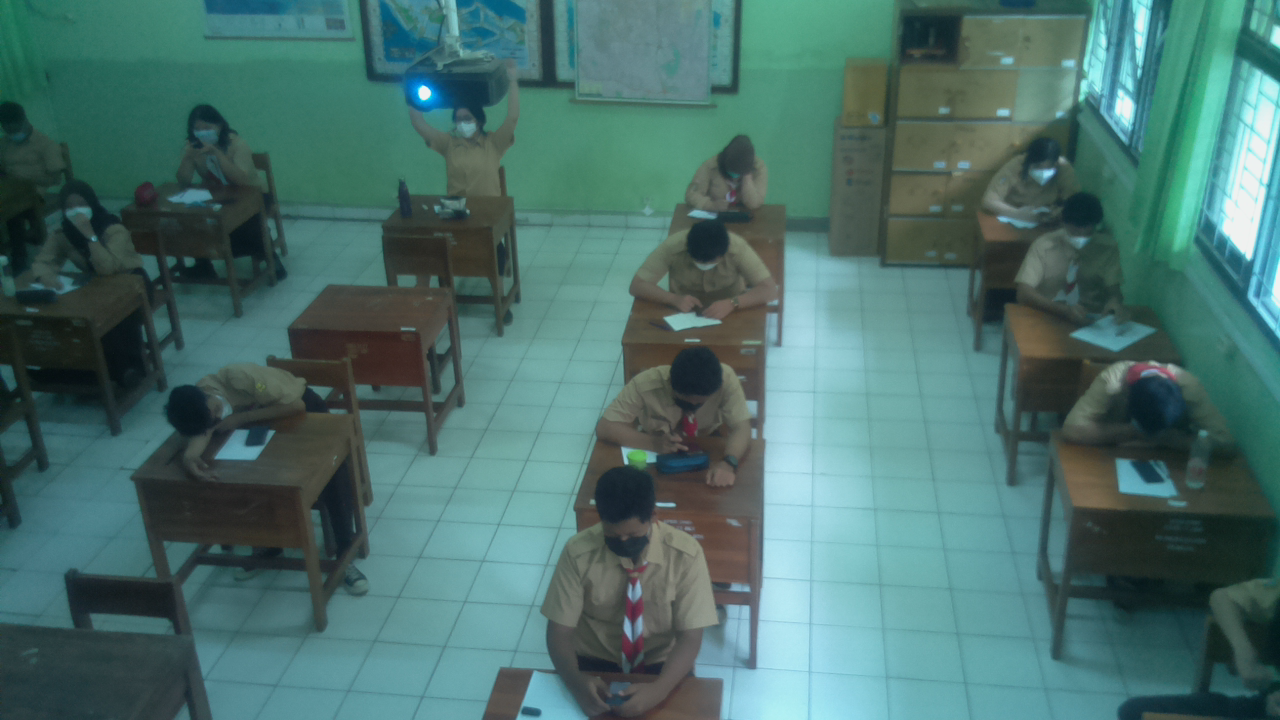Student: (551, 467, 706, 663), (615, 345, 749, 443), (1083, 359, 1206, 455), (167, 359, 312, 433), (1035, 191, 1127, 305), (655, 219, 761, 305), (45, 183, 135, 273), (987, 135, 1083, 213), (431, 112, 508, 196), (181, 107, 255, 190), (0, 101, 68, 189), (691, 135, 769, 206)
